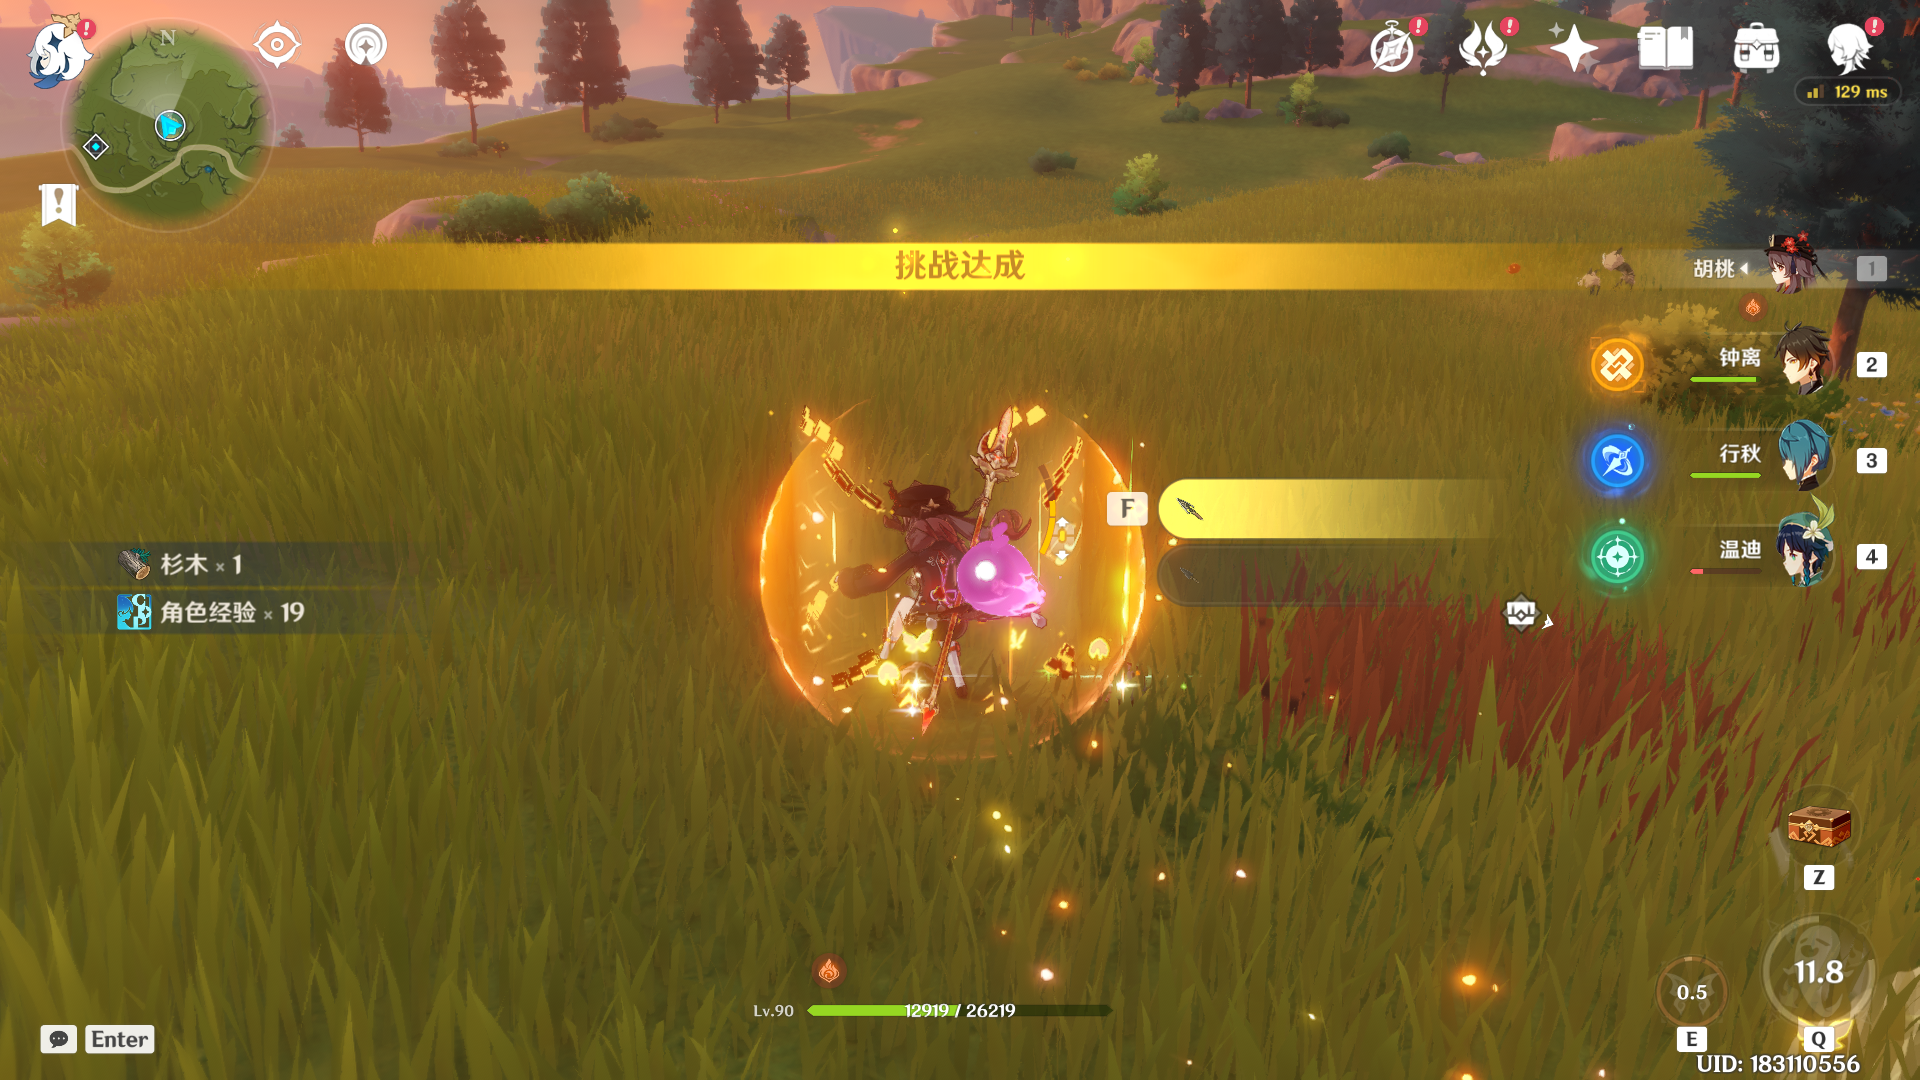character: (764, 423, 1139, 774)
